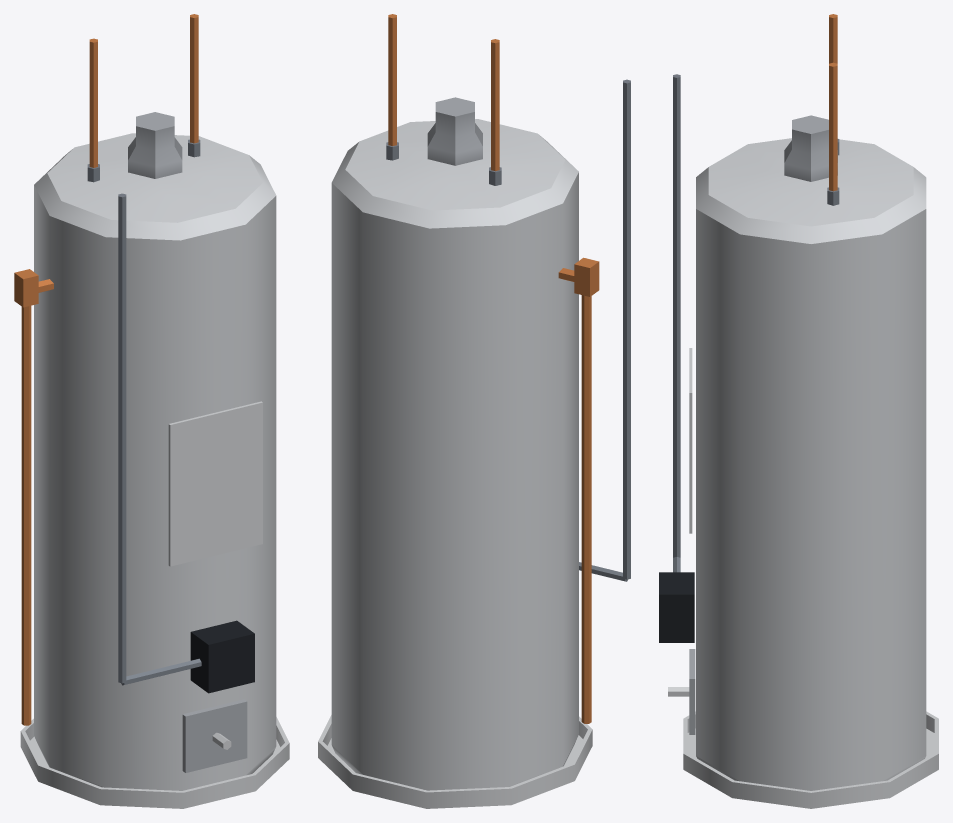
File: water_heater_rheem_prog50.far.glb
3 views of the same model, side by side, from view 1: azimuth 30°, elevation 25°; view 2: azimuth 150°, elevation 25°; view 3: azimuth 270°, elevation 25° (orthographic). The views are drawn at different scales.
Visible parts, largest first — view 1: water_heater_rheem_prog50; view 2: water_heater_rheem_prog50; view 3: water_heater_rheem_prog50.
Part boxes in pixels (box(x1,y1,x2,y2)): water_heater_rheem_prog50: box(14, 14, 289, 808); water_heater_rheem_prog50: box(318, 14, 630, 808); water_heater_rheem_prog50: box(659, 14, 938, 808).
Size of the model in its own units: 0.6561 by 1.77 by 0.6313.
